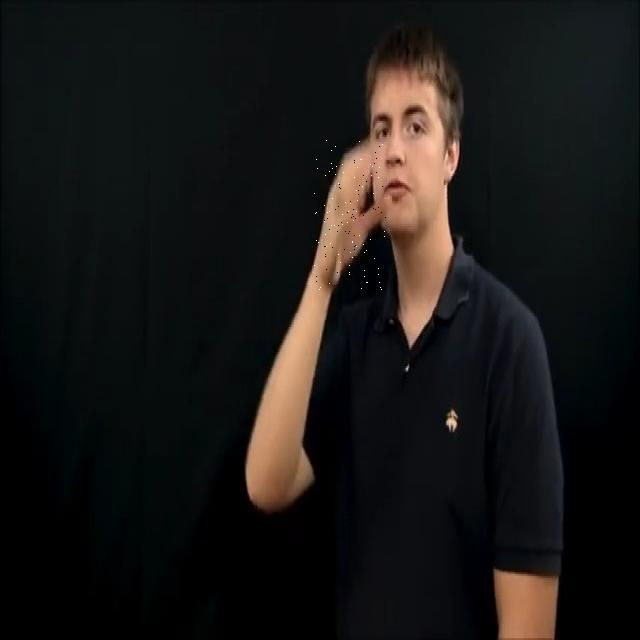drink: (314, 138, 386, 292)
